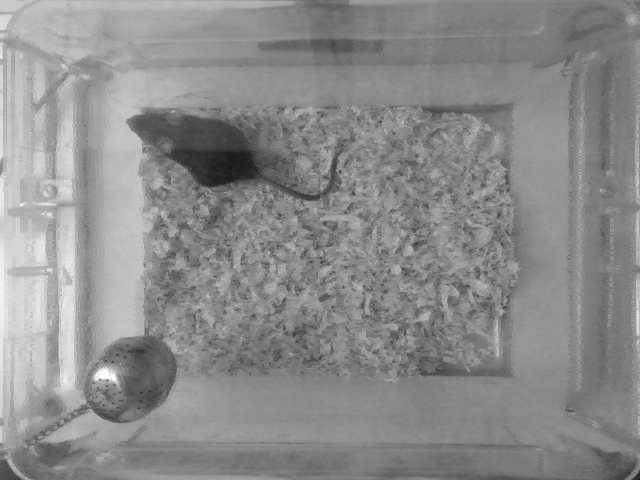mice: (121, 105, 342, 203)
